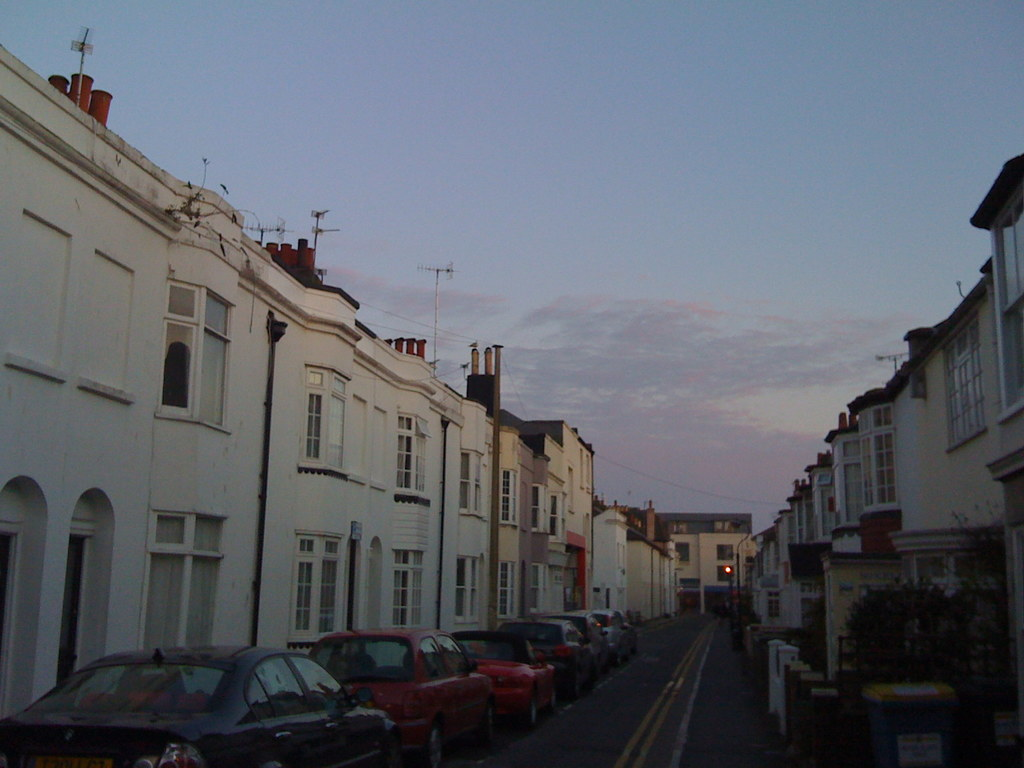Car: (0, 603, 636, 767), (0, 644, 397, 767), (304, 624, 496, 767), (456, 628, 554, 734), (538, 611, 611, 680), (595, 611, 631, 659)
